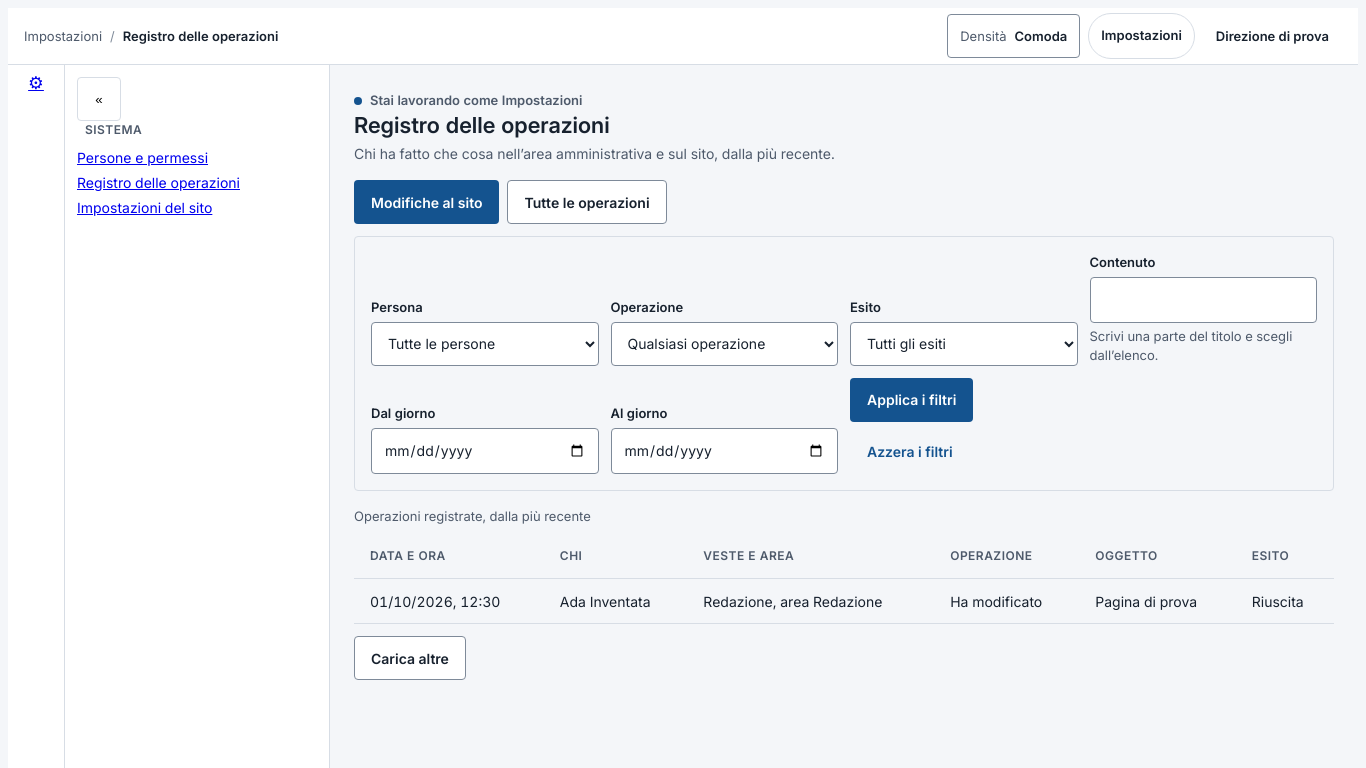
registro delle operazioni › «Carica altre» usa il cursore e accoda le righe
Expected: the text "Ha modificato" is shown, 934,579 -> 1079,624
Click the button "Carica altre".
click(410, 658)  # box 354,636 -> 466,680
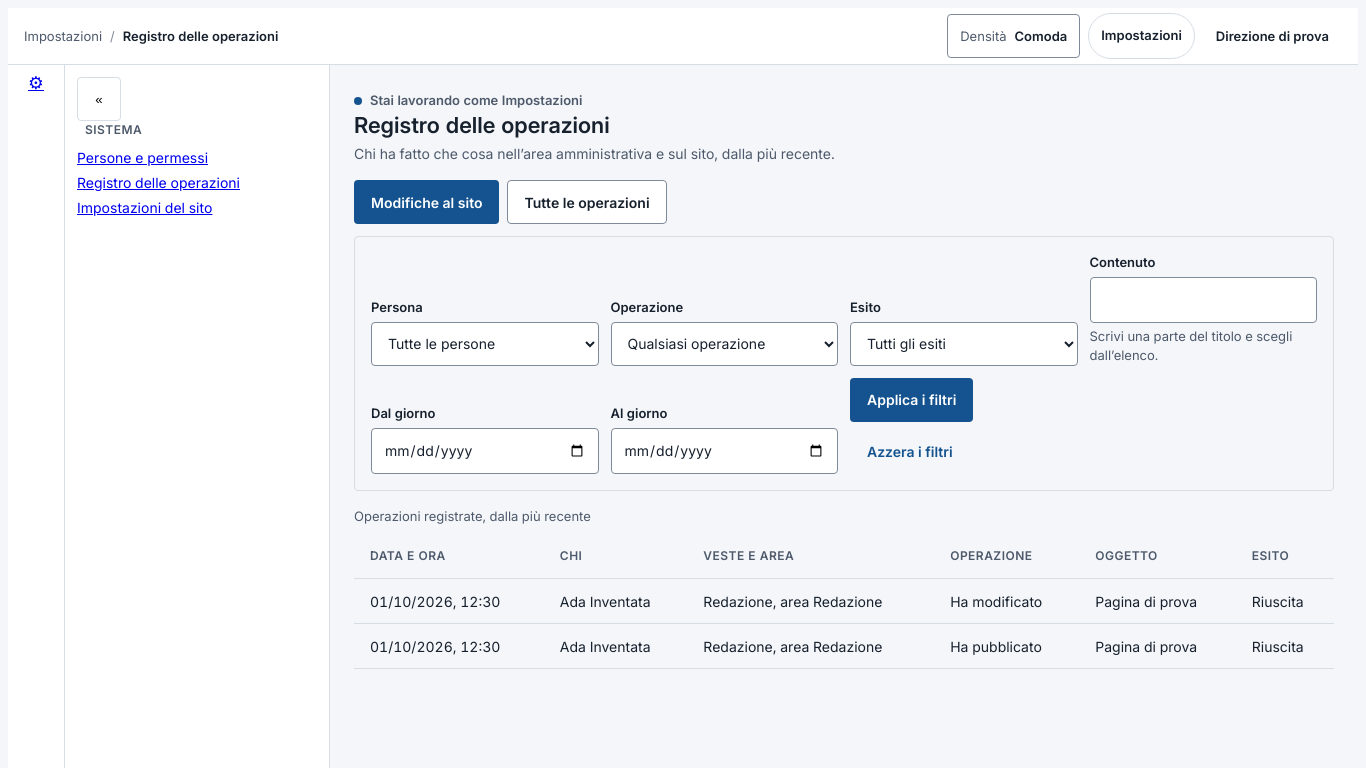
Expected: the text "Ha modificato" is shown, 934,579 -> 1079,624
Expected: the text "Ha pubblicato" is shown, 934,624 -> 1079,669
Expected: the button "Carica altre" is gone
